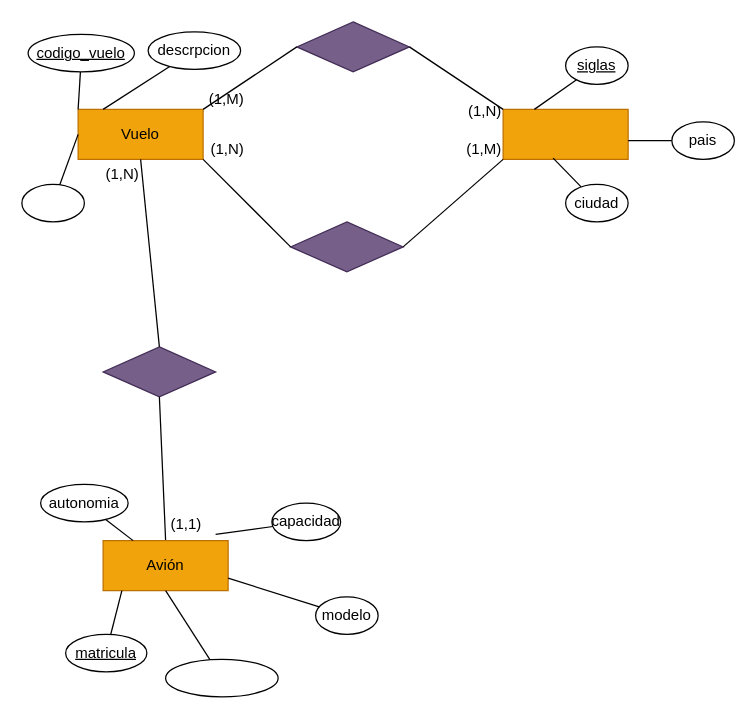
Image size: 756x719. Some labels were removed from this diagram. The centre of each missing label's shape, as x and y in pixels:
Aeropuerto: the point at 565,133
fabruicante: the point at 221,677
fecha: the point at 52,202
realiza: the point at 159,371
sale: the point at 352,46
va: the point at 346,246
